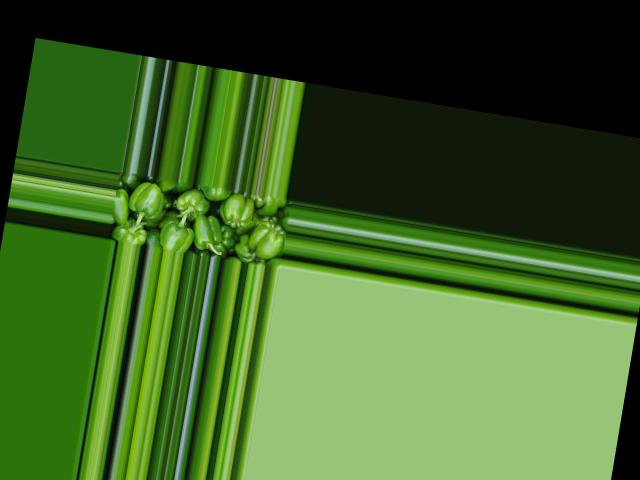bell_pepper: (110, 171, 292, 267)
